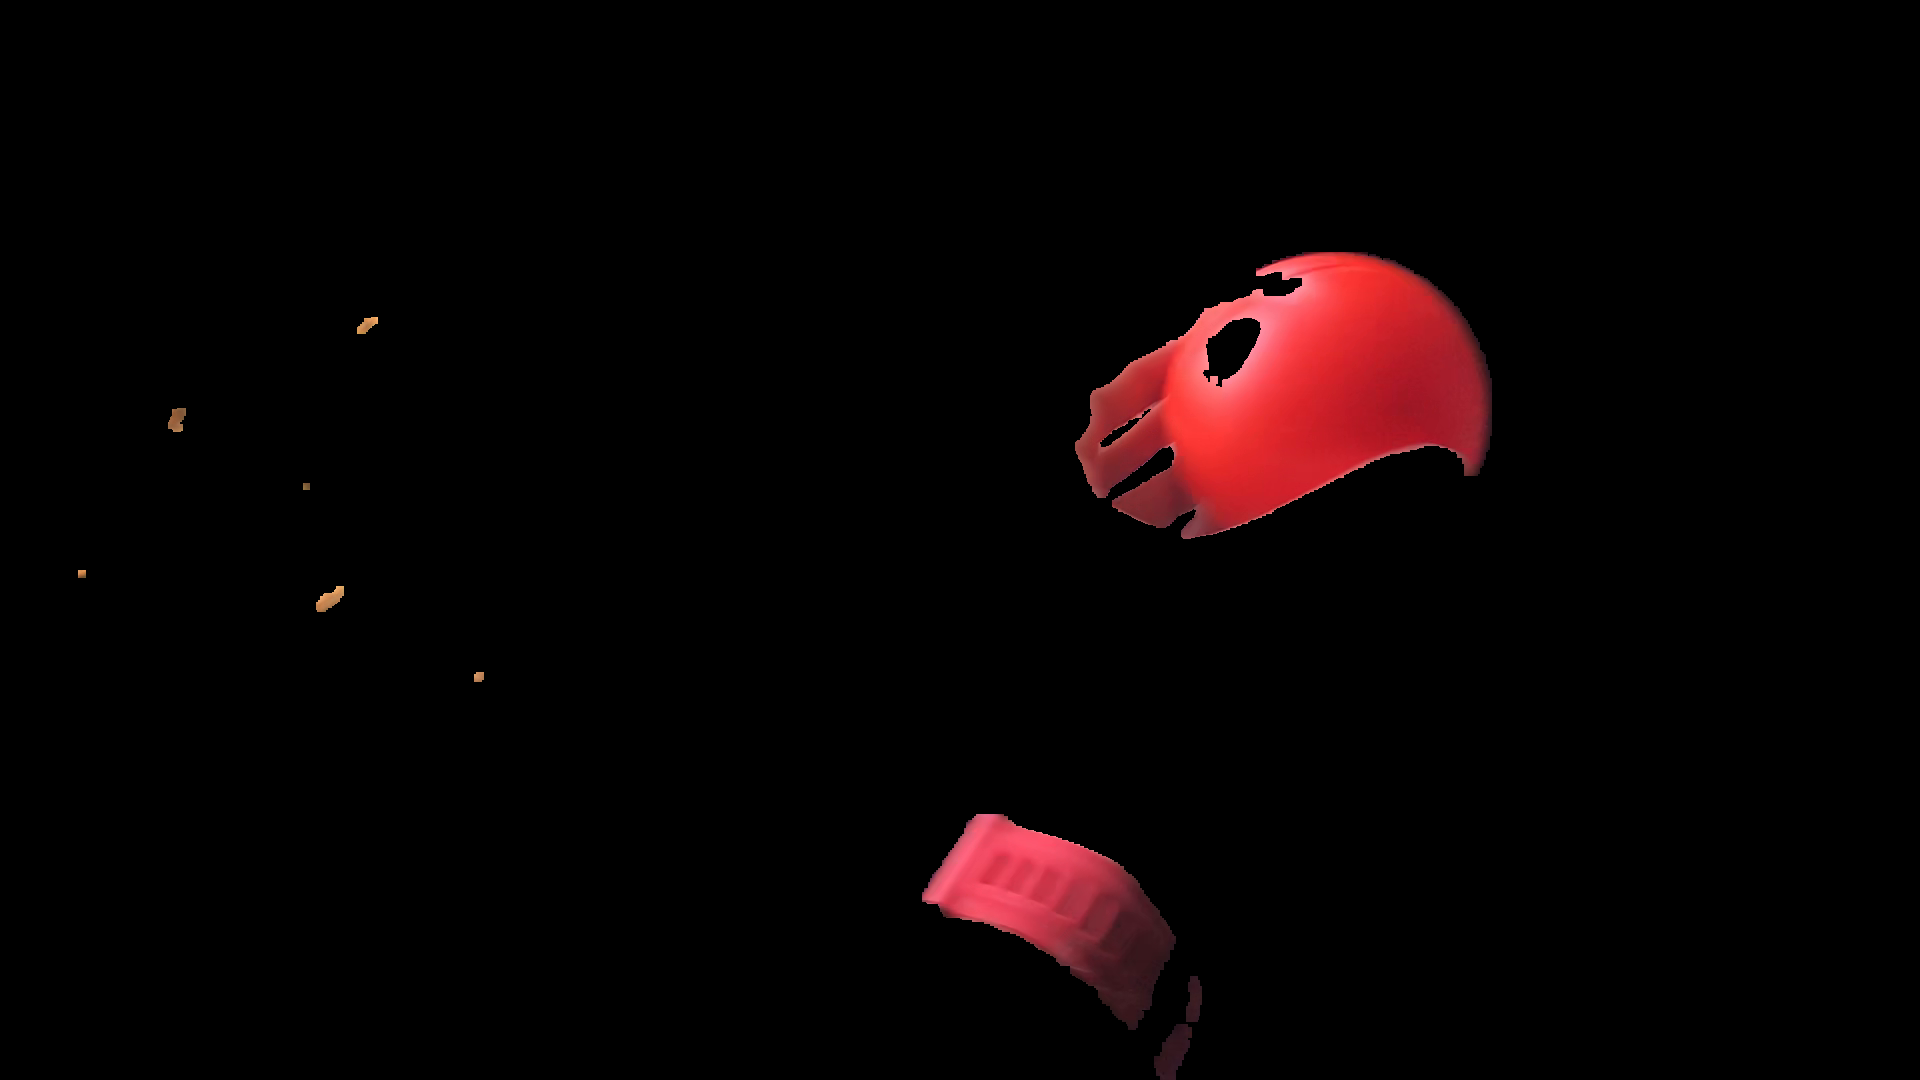Ball: (1164, 247, 1490, 556)
